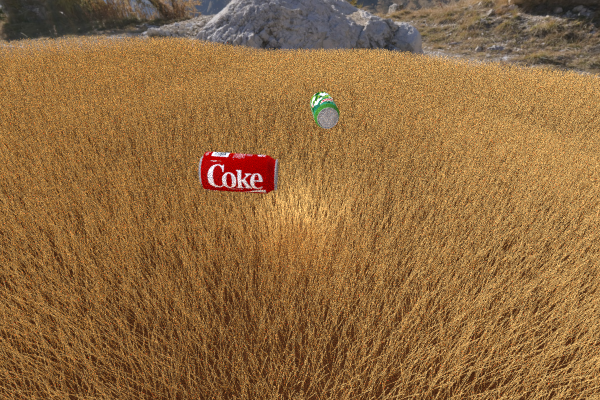bottle: (433, 99, 554, 212)
can: (198, 151, 278, 193), (309, 91, 339, 128)
